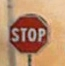stop: (9, 13, 49, 54)
